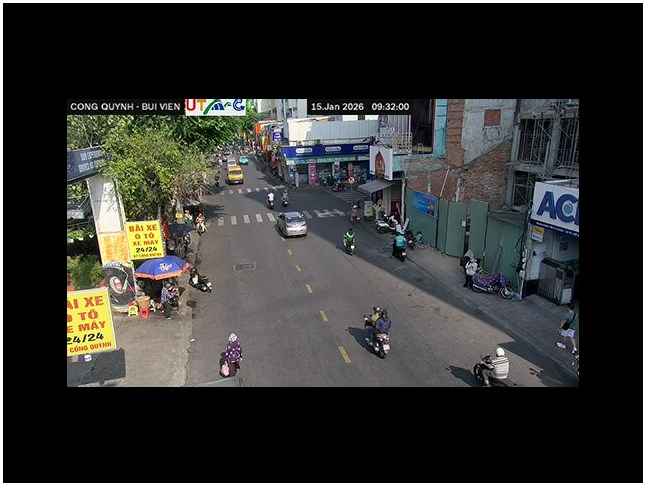car: (275, 210, 307, 238)
motorbike: (391, 233, 410, 262)
